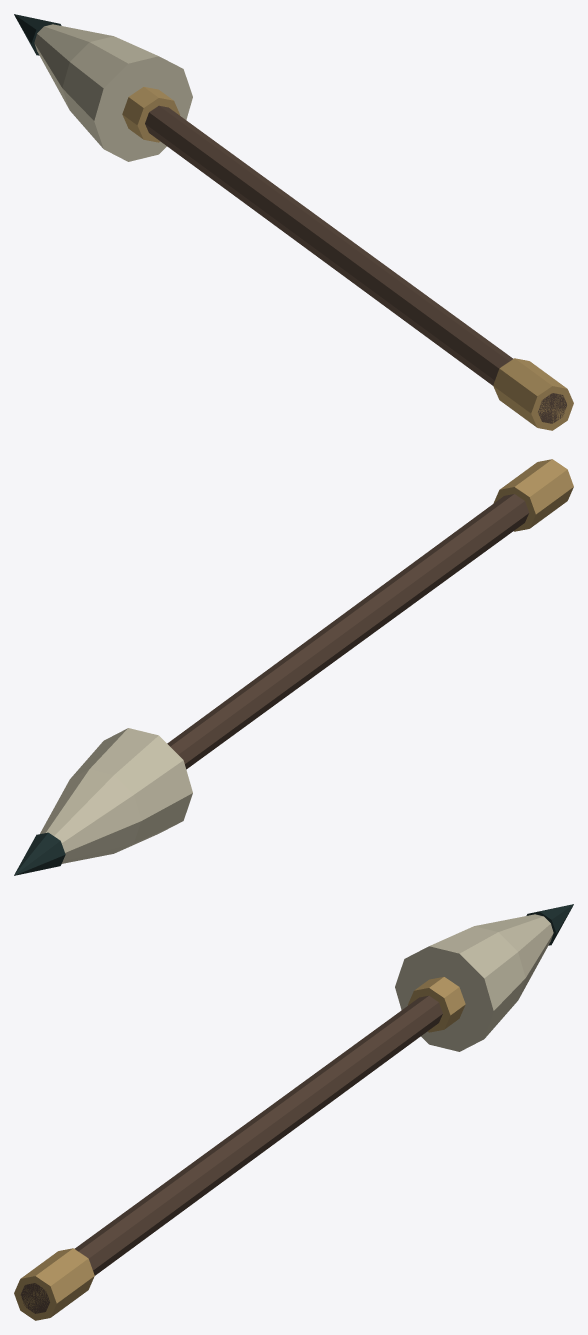
The model's file is brush.glb.
The picture shows the model from 3 angles, top to bottom: view 1: azimuth 30°, elevation 25°; view 2: azimuth 150°, elevation 25°; view 3: azimuth 330°, elevation 25°; orthographic projection.
Parts seen in each view (by area): view 1: BladeMesh; view 2: BladeMesh; view 3: BladeMesh.
Part boxes in pixels (x1=…): BladeMesh: x1=14, y1=14, x2=573, y2=430; BladeMesh: x1=14, y1=459, x2=573, y2=875; BladeMesh: x1=14, y1=904, x2=573, y2=1320.
Size of the model in its own units: 0.3 by 0.2853 by 2.83.
